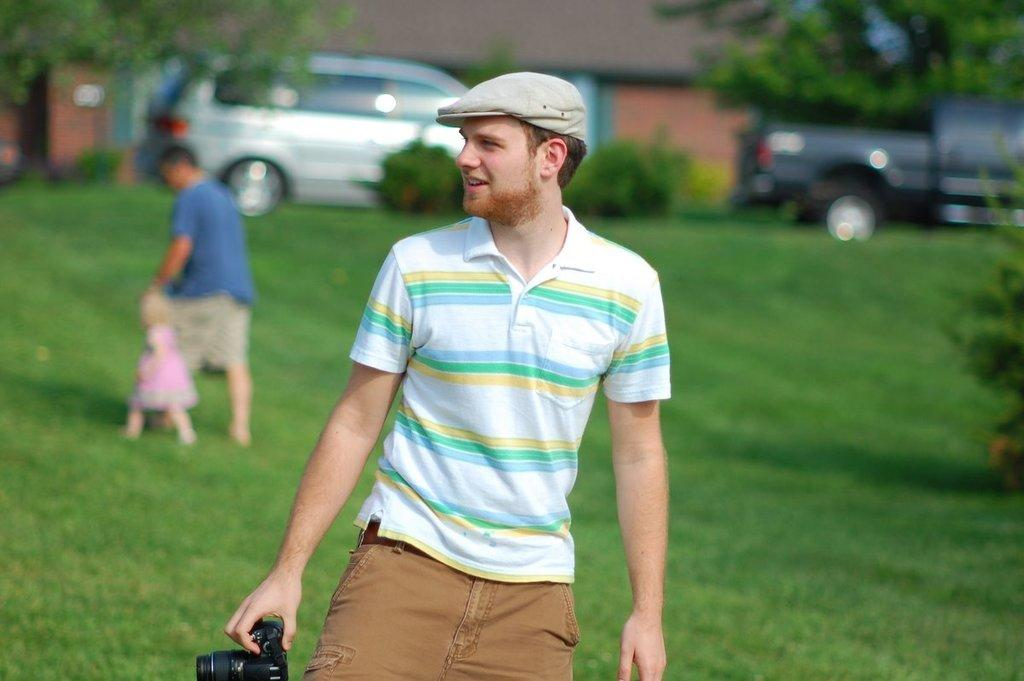Hat: (434, 69, 584, 139)
